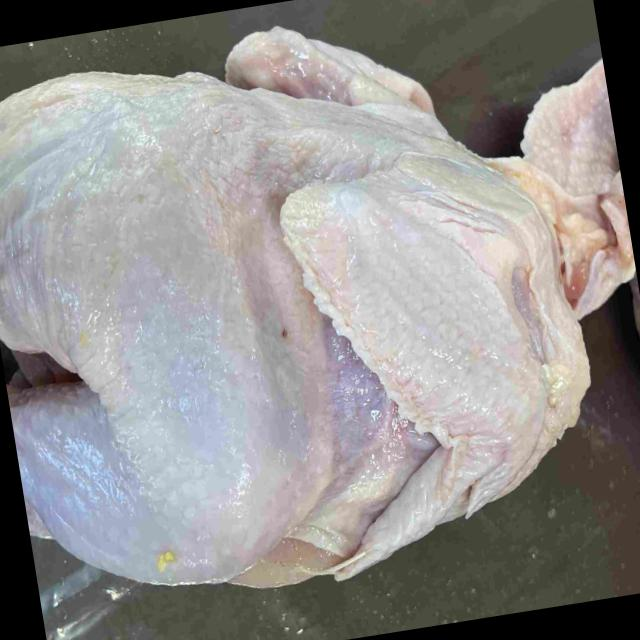back: (0, 73, 404, 339)
leg: (5, 232, 329, 575)
wing: (282, 176, 541, 580)
